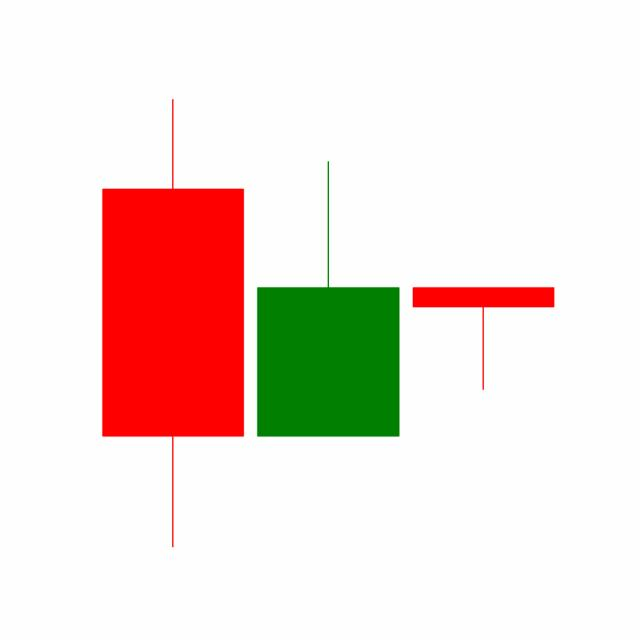Dragonfly Doji: (405, 285, 561, 390)
